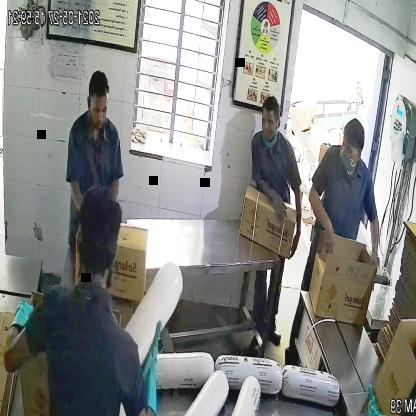no_goggles: (334, 139, 368, 160), (85, 99, 111, 120), (256, 115, 284, 133)
